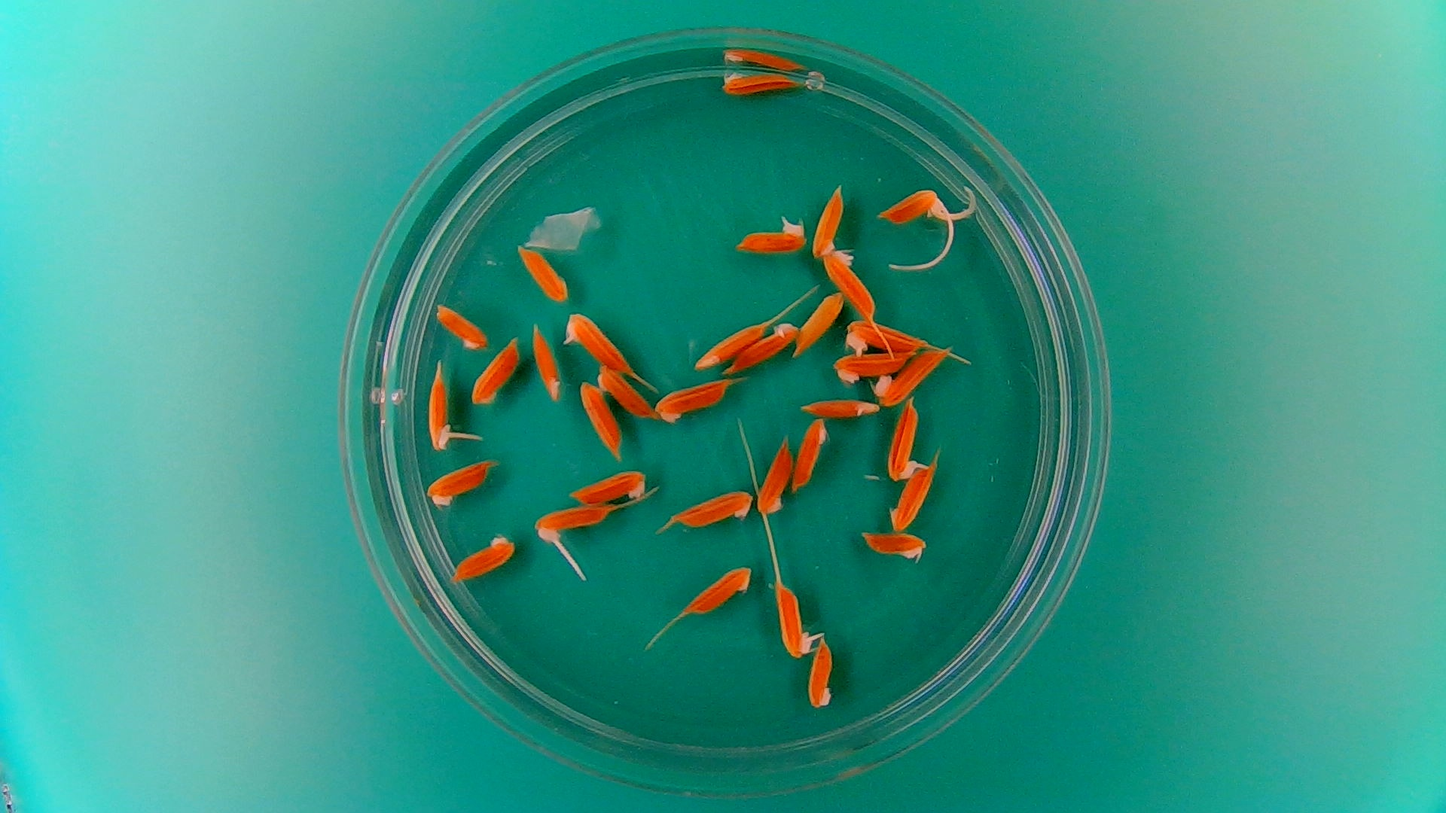no: (872, 344, 953, 410), (690, 315, 766, 373), (679, 561, 755, 619), (468, 332, 521, 409), (820, 250, 878, 320), (651, 376, 732, 426), (665, 487, 753, 533), (729, 318, 800, 375), (447, 528, 519, 584), (423, 457, 498, 510), (577, 379, 624, 462), (886, 461, 938, 533), (794, 288, 845, 359), (512, 242, 569, 305), (840, 317, 927, 358), (596, 363, 657, 421), (566, 464, 650, 506), (754, 433, 794, 516), (810, 180, 850, 261), (431, 300, 490, 354), (791, 413, 831, 492), (831, 347, 917, 382), (529, 319, 563, 403), (716, 66, 799, 98), (804, 633, 837, 712), (857, 528, 929, 564), (793, 394, 881, 423)
yes: (561, 306, 640, 373), (884, 398, 928, 483), (731, 213, 808, 256), (535, 504, 613, 539), (773, 587, 808, 661), (883, 188, 948, 224), (426, 372, 452, 454)
